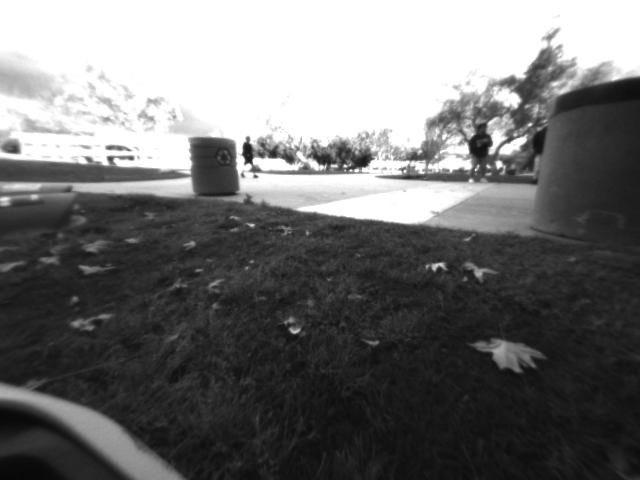trashcan: (525, 76, 640, 264), (180, 129, 244, 203)
